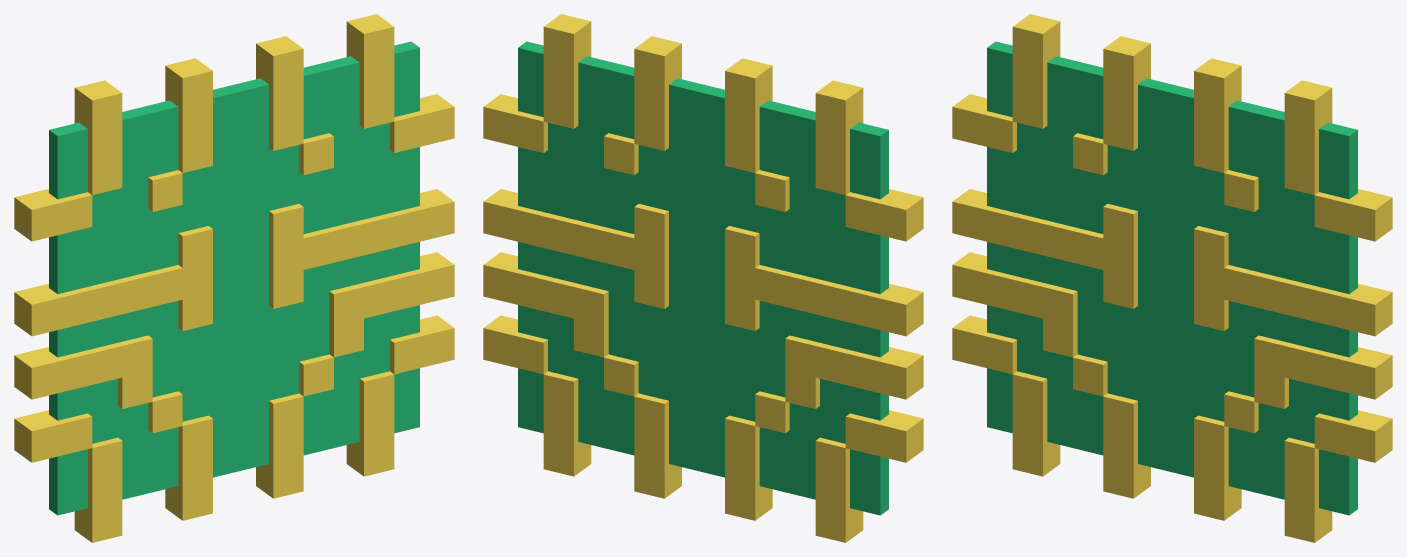
Rendered from chip.fbx.
The picture shows the model from 3 angles, left to right: view 1: azimuth 30°, elevation 25°; view 2: azimuth 150°, elevation 25°; view 3: azimuth 330°, elevation 25°; orthographic projection.
Parts seen in each view (by area): view 1: generated; view 2: generated; view 3: generated.
Part boxes in pixels (x1,y1,x2,y2): generated: [14, 14, 454, 542]; generated: [483, 14, 923, 542]; generated: [952, 14, 1392, 542].
Bounding box in the file's own units: 140 × 140 × 10.
